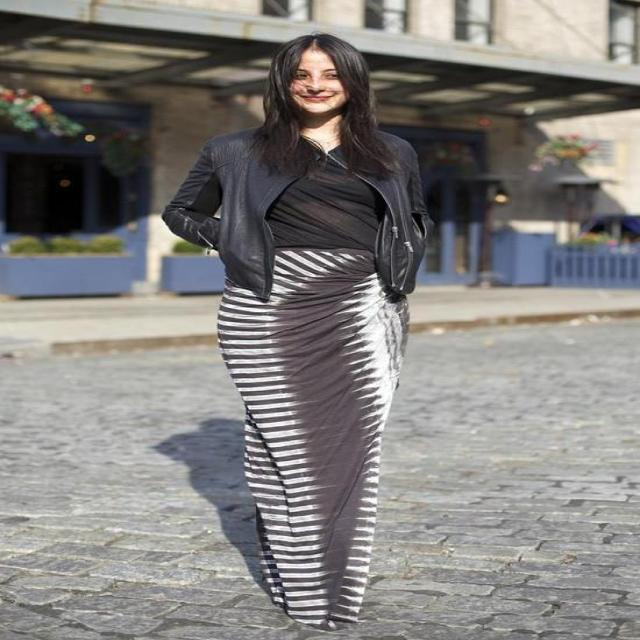skirt: (218, 249, 410, 631)
sweater: (170, 129, 433, 295)
